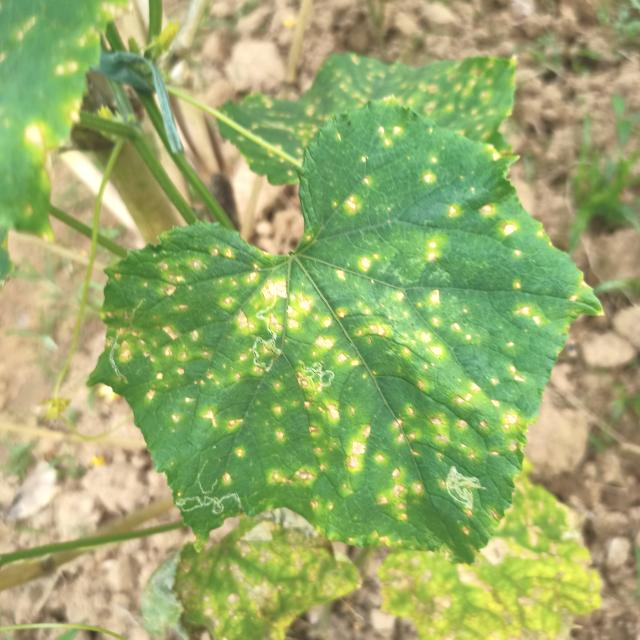disease_cucumber: (105, 236, 566, 525), (418, 206, 461, 268), (344, 154, 373, 219), (479, 197, 522, 240), (420, 148, 443, 192), (377, 123, 406, 152)
